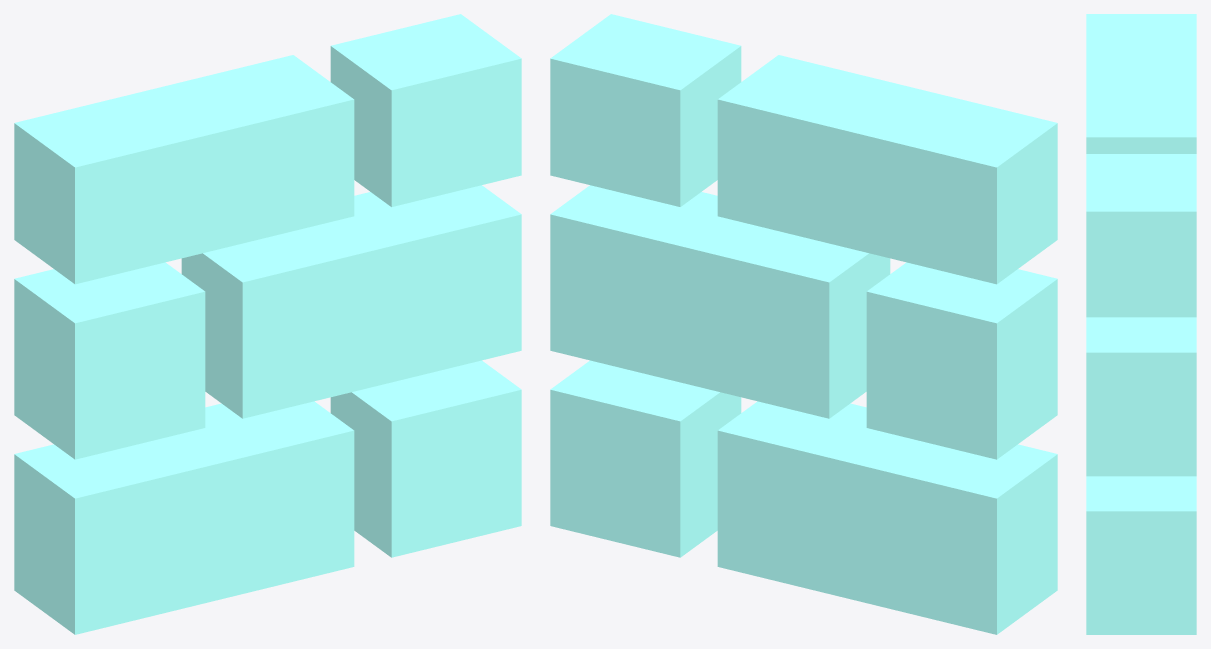
Rendered from 防火墙.fbx.
3 renders of one model, left to right at view 1: azimuth 30°, elevation 25°; view 2: azimuth 150°, elevation 25°; view 3: azimuth 270°, elevation 25°, orthographic. The views are drawn at different scales.
Visible parts, largest first — view 1: 防火墙2; view 2: 防火墙2; view 3: 防火墙2.
Boxes of the visible parts, left/top/right/bottom form: 防火墙2: left=14, top=14, right=521, bottom=634; 防火墙2: left=550, top=14, right=1057, bottom=634; 防火墙2: left=1086, top=14, right=1196, bottom=634.
Bounding box in the file's own units: 323 × 323 × 76.32.
